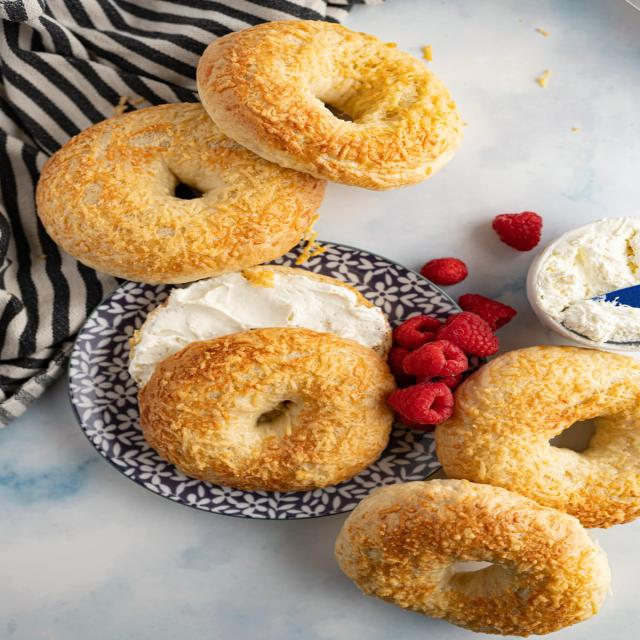Bagel: (36, 102, 326, 284), (197, 20, 463, 190), (336, 479, 609, 636), (139, 328, 396, 491), (435, 346, 639, 528)
